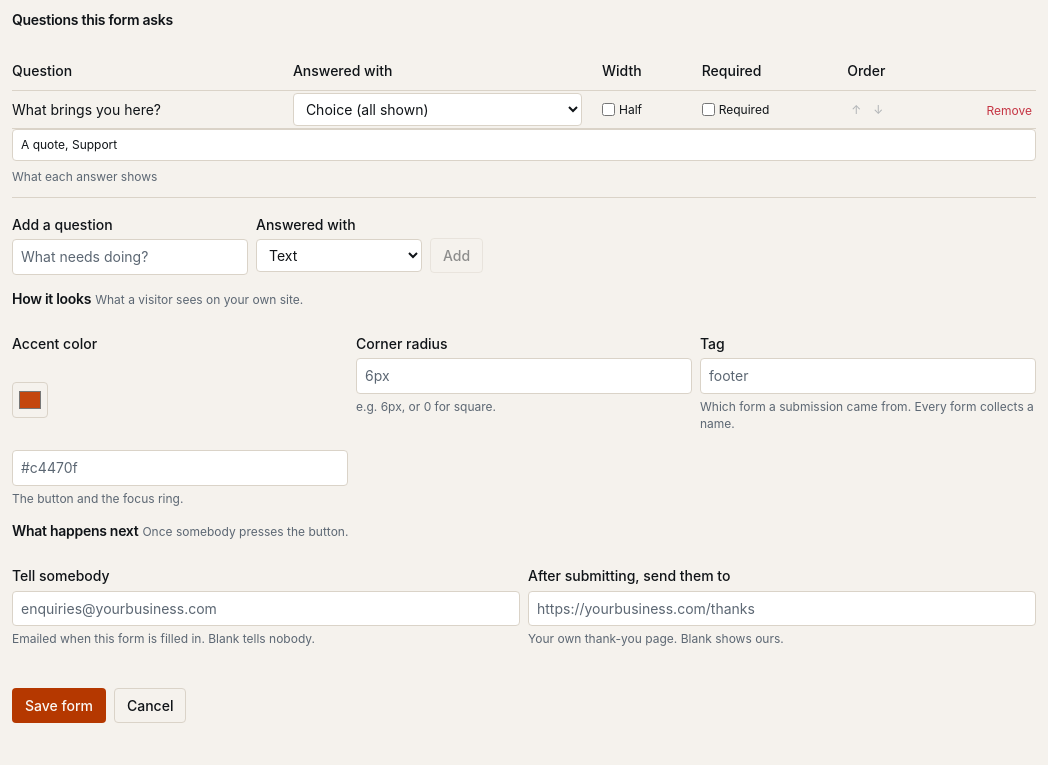
Test: the per-answer panels are closed until somebody asks
Check: the text "What the link says" is not shown
Step 1. Click the button "What each answer shows" → (85, 177), box x1=12 y1=165 x2=157 y2=189
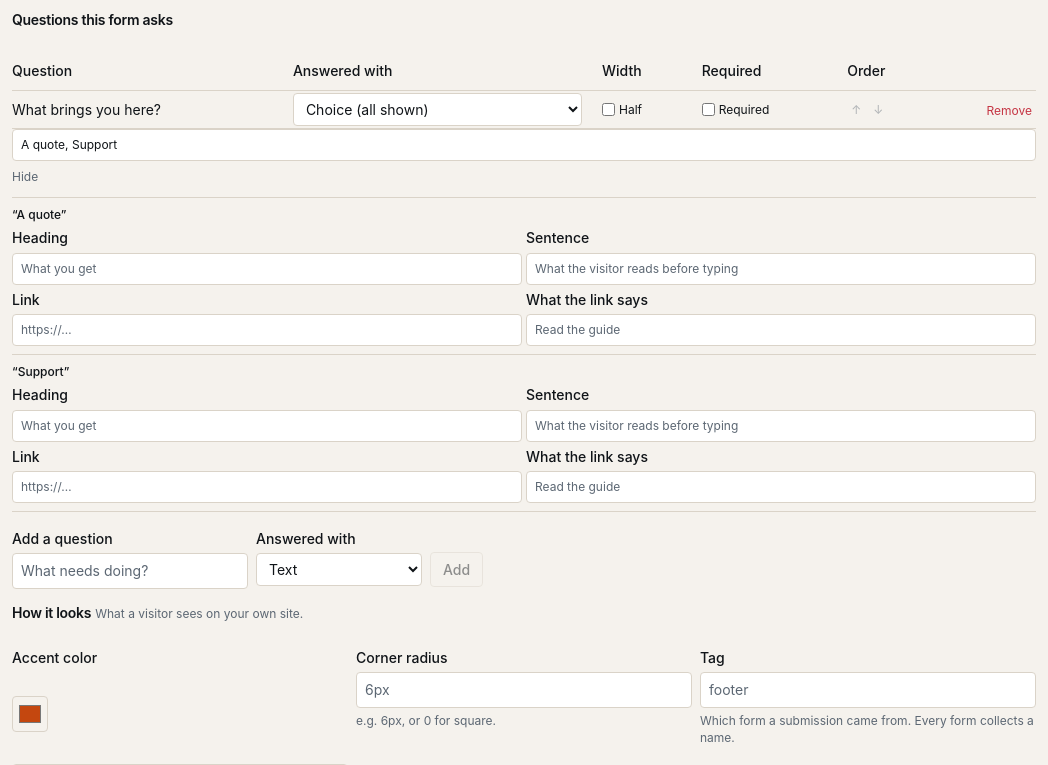
Check: the text "What the link says" is shown, box x1=526 y1=291 x2=648 y2=308
